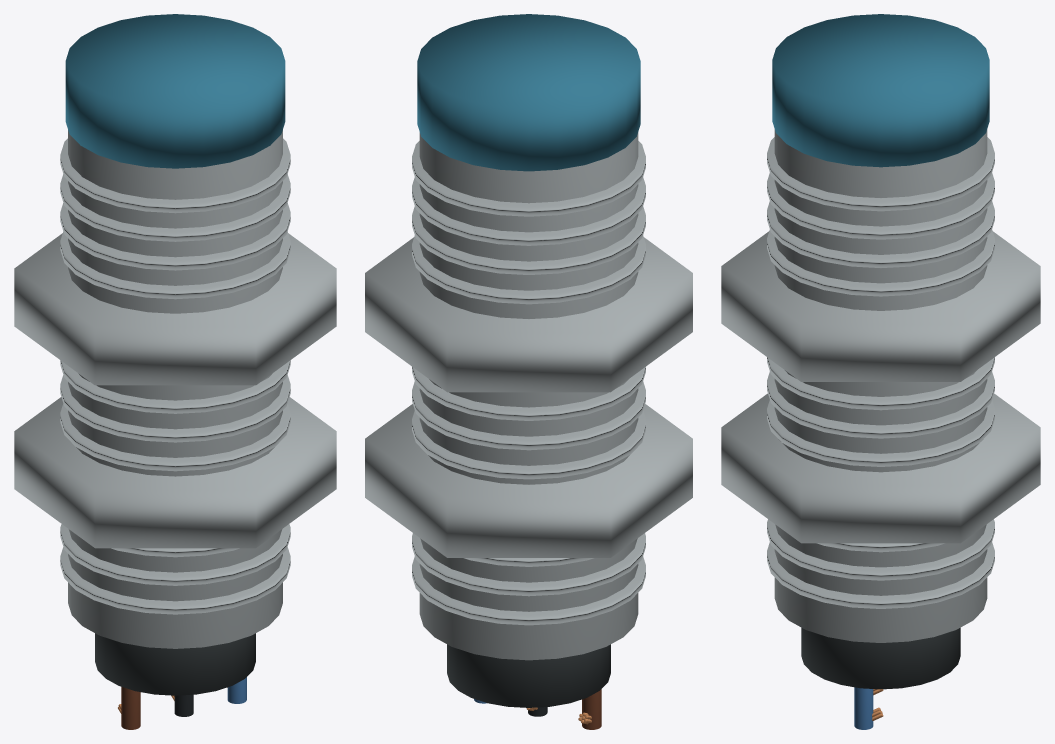
The model's file is proximity_default.glb.
The picture shows the model from 3 angles, left to right: view 1: azimuth 30°, elevation 25°; view 2: azimuth 150°, elevation 25°; view 3: azimuth 270°, elevation 25°; orthographic projection. The views are drawn at different scales.
Visible parts, largest first — view 1: node-3 · Original material, node-22, node-23, node-24; view 2: node-3 · Original material, node-22, node-23, node-24; view 3: node-3 · Original material, node-22, node-23, node-26.
Part boxes in pixels (left/top/right/bottom): node-3 · Original material: left=14, top=130, right=336, bottom=648; node-22: left=65, top=14, right=285, bottom=168; node-23: left=95, top=633, right=255, bottom=695; node-24: left=121, top=687, right=140, bottom=729; node-3 · Original material: left=365, top=132, right=692, bottom=660; node-22: left=417, top=14, right=640, bottom=171; node-23: left=447, top=644, right=610, bottom=707; node-24: left=582, top=689, right=601, bottom=729; node-3 · Original material: left=721, top=129, right=1040, bottom=642; node-22: left=772, top=14, right=989, bottom=167; node-23: left=801, top=627, right=960, bottom=689; node-26: left=854, top=687, right=873, bottom=729.
Size of the model in its own units: 0.5383 by 1.38 by 0.6216.
